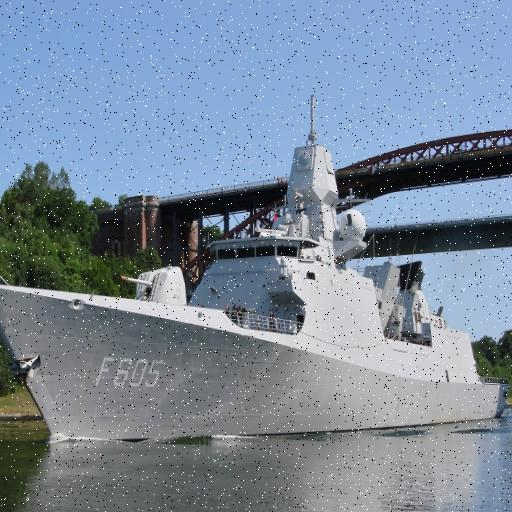Fragata: (1, 85, 512, 448)
